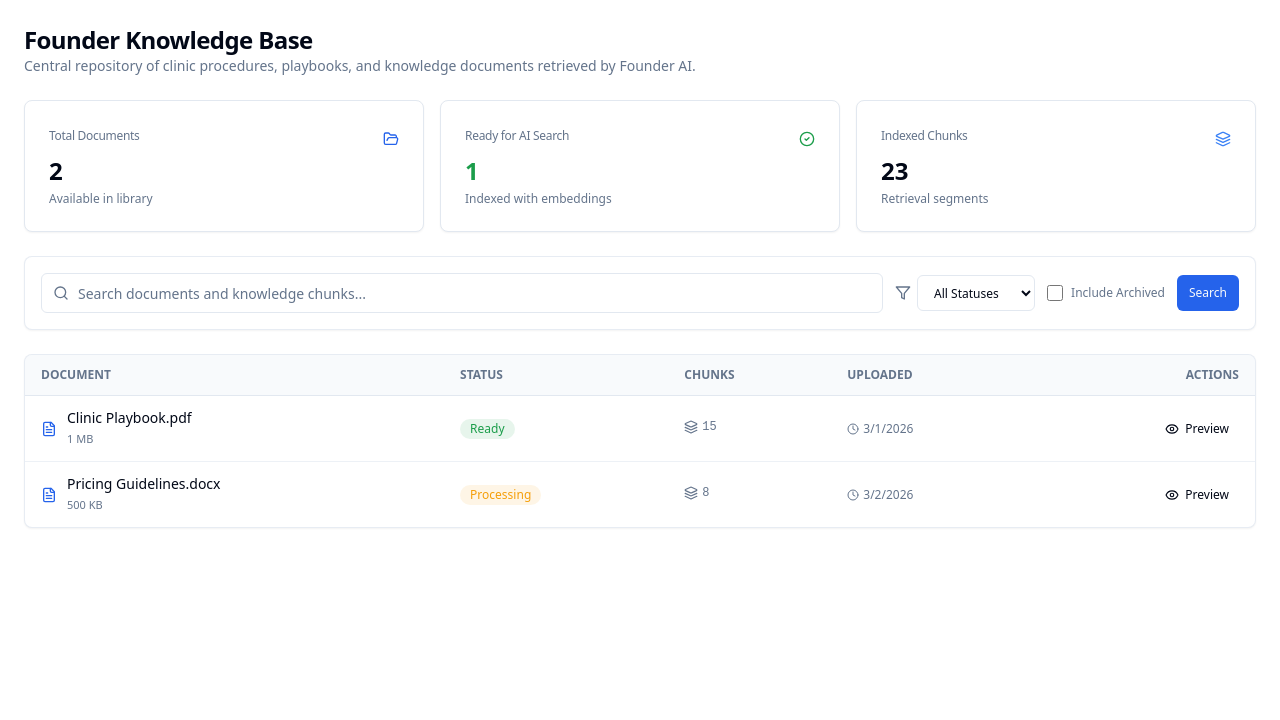
it: KnowledgeBasePage › filters documents when search query is entered
The width and height of the screenshot is (1280, 720).
In the field with test id "knowledge-search-input": [462, 293] box [41,273,883,313], type "Pricing"
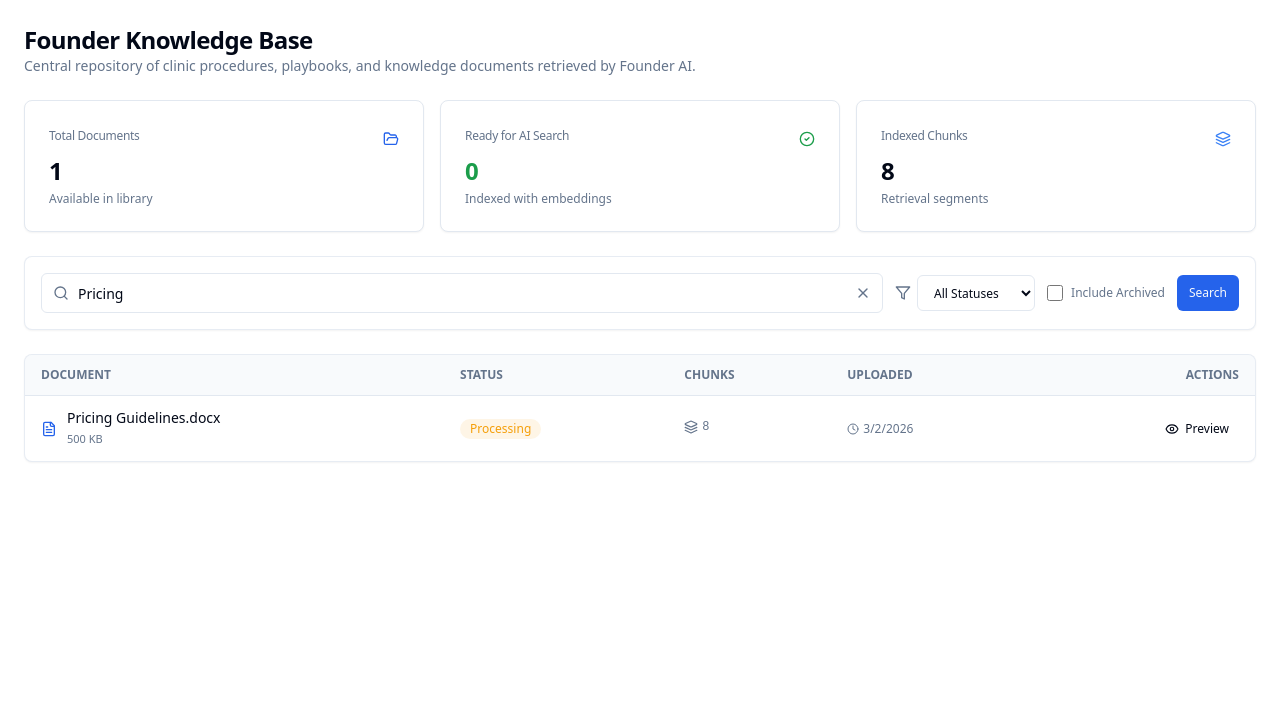
Expected: the text "Pricing Guidelines.docx" is shown, [67,408,220,428]
Expected: the text "Clinic Playbook.pdf" is gone
Expected: the text with test id "metric-total-docs" reads "1", [49,154,63,187]
